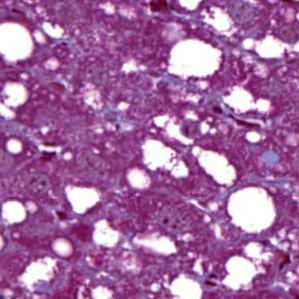steatosis: (225, 188, 279, 232)
